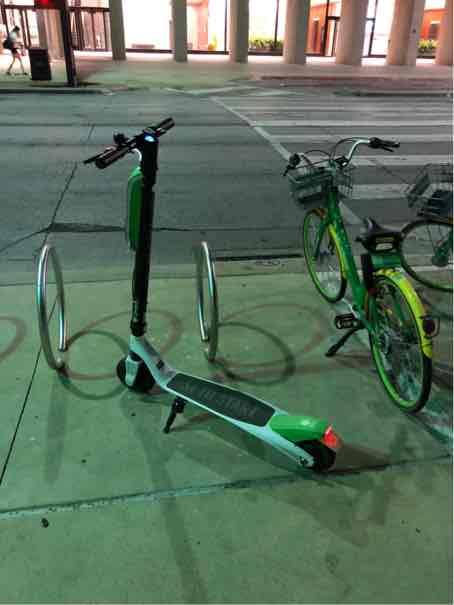scooter: (73, 115, 345, 480)
